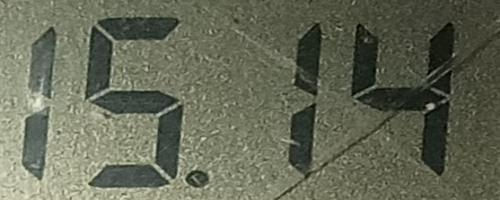.: (183, 166, 211, 192)
